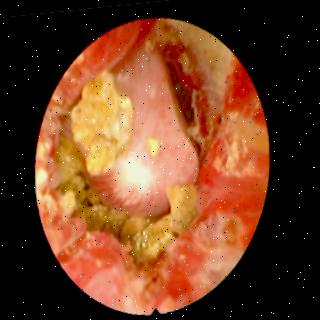stone: (57, 138, 199, 258), (71, 70, 130, 172), (149, 138, 160, 154)
